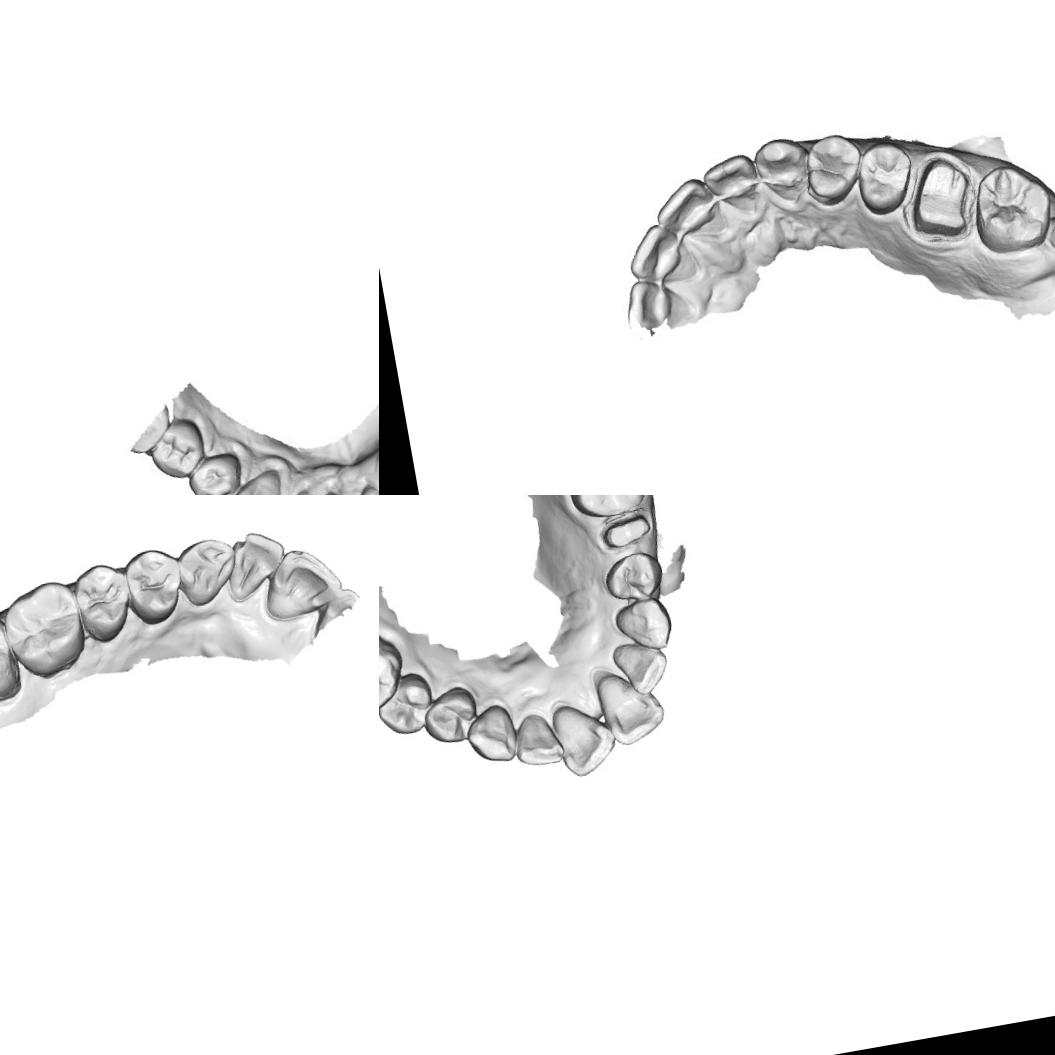canine: (173, 533, 244, 610), (609, 594, 677, 656), (460, 700, 520, 769), (755, 134, 811, 198), (217, 468, 292, 495)
crown: (903, 153, 974, 232), (598, 510, 655, 551)
incisor: (255, 540, 345, 624), (592, 664, 670, 751), (547, 696, 622, 780), (218, 525, 294, 606), (626, 222, 695, 290), (608, 634, 674, 700), (706, 152, 766, 213), (508, 708, 566, 771), (654, 179, 718, 236), (618, 275, 680, 332)
molar: (0, 574, 90, 683), (968, 157, 1055, 257), (379, 623, 410, 722), (559, 495, 650, 523), (0, 606, 22, 710)
premolar: (800, 124, 869, 210), (69, 560, 137, 646), (848, 137, 920, 218), (120, 543, 185, 628), (379, 667, 440, 740), (417, 682, 483, 748), (599, 547, 668, 606), (148, 418, 206, 478), (187, 450, 243, 495)
